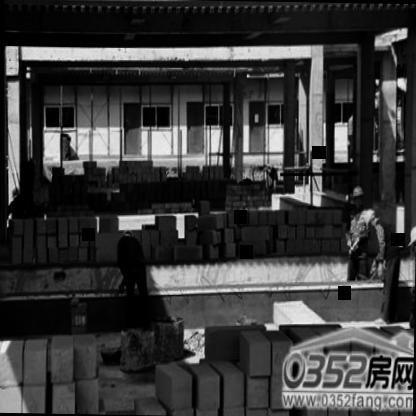helmet: (404, 218, 416, 260), (362, 204, 378, 230), (351, 182, 364, 210)
